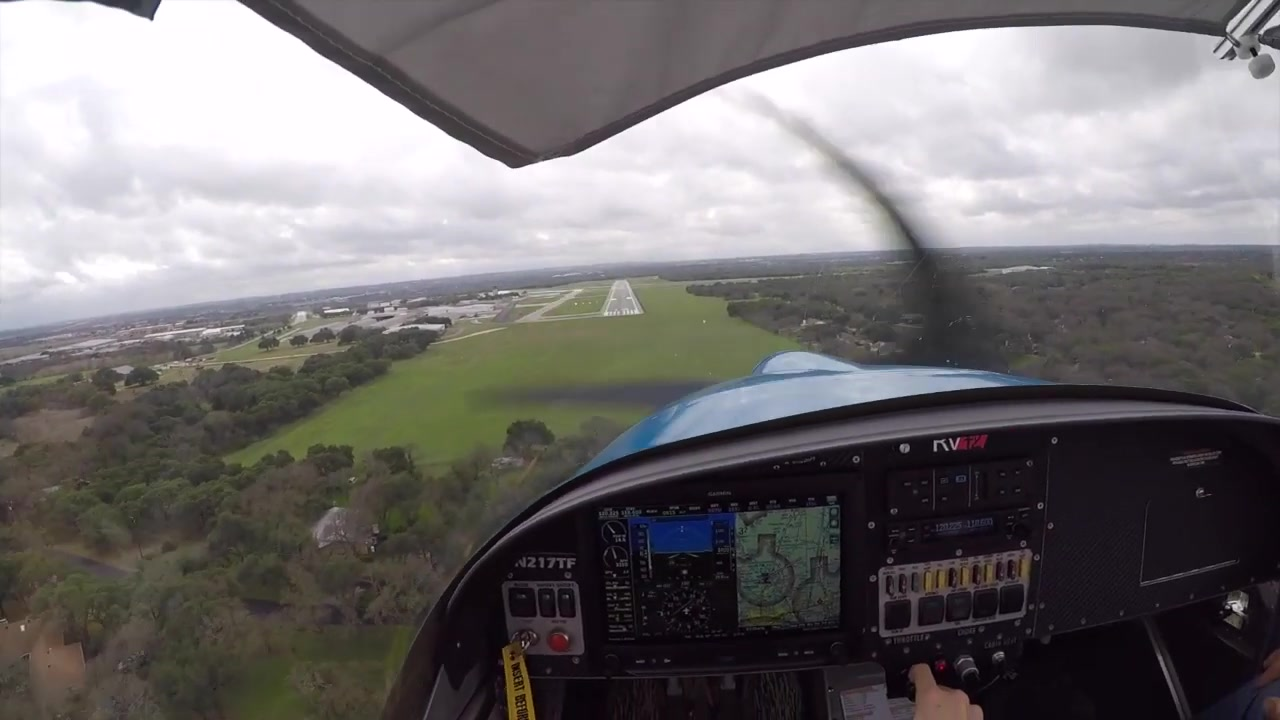entrance: (603, 309, 640, 317)
runway: (600, 278, 644, 323)
